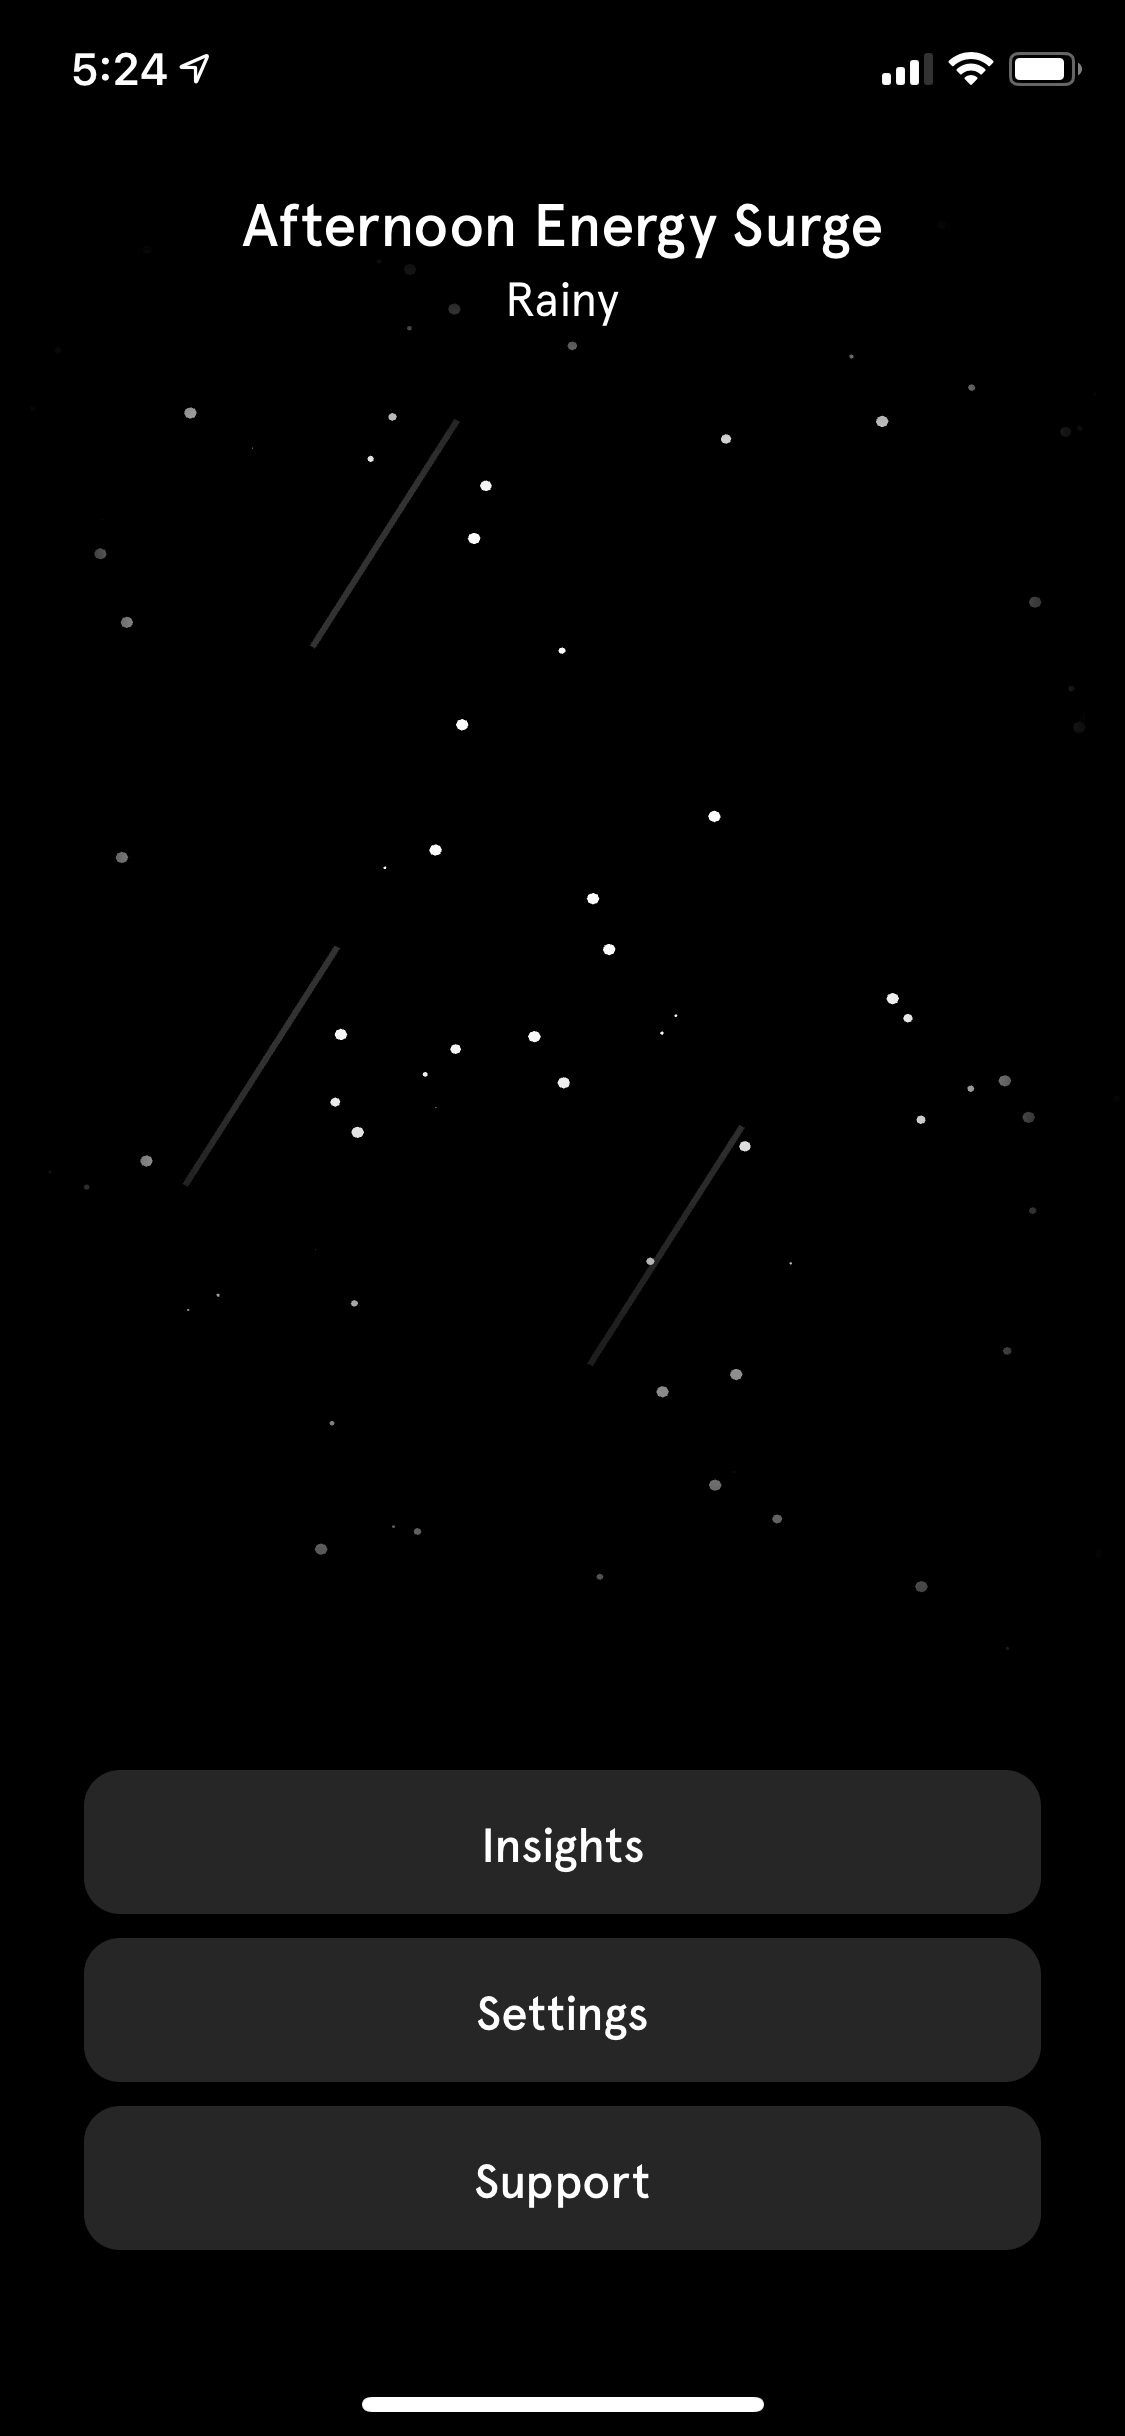Buttons: (70, 2083, 1060, 2257), (65, 1754, 1061, 1916), (70, 1933, 1060, 2090)
